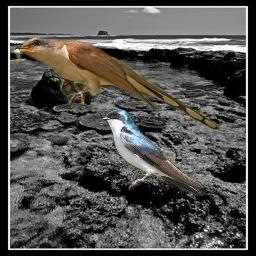Cuckoo: (8, 36, 221, 131)
Swallow: (101, 109, 205, 196)
